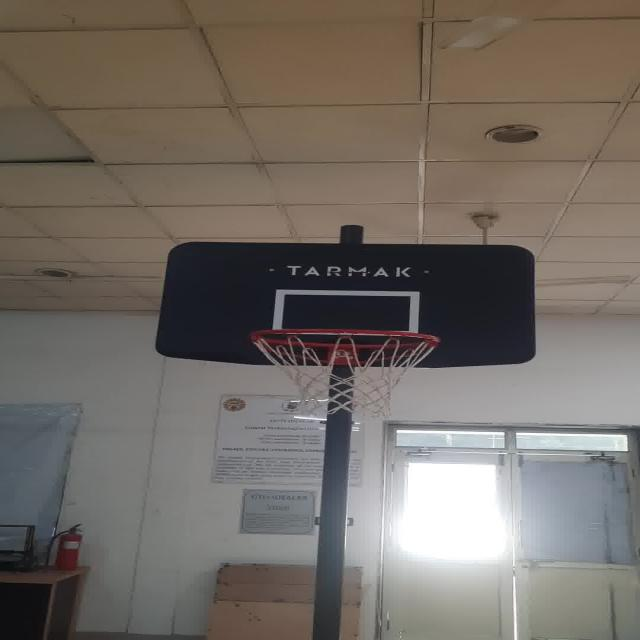objects: (251, 321, 444, 413), (281, 292, 414, 334)
